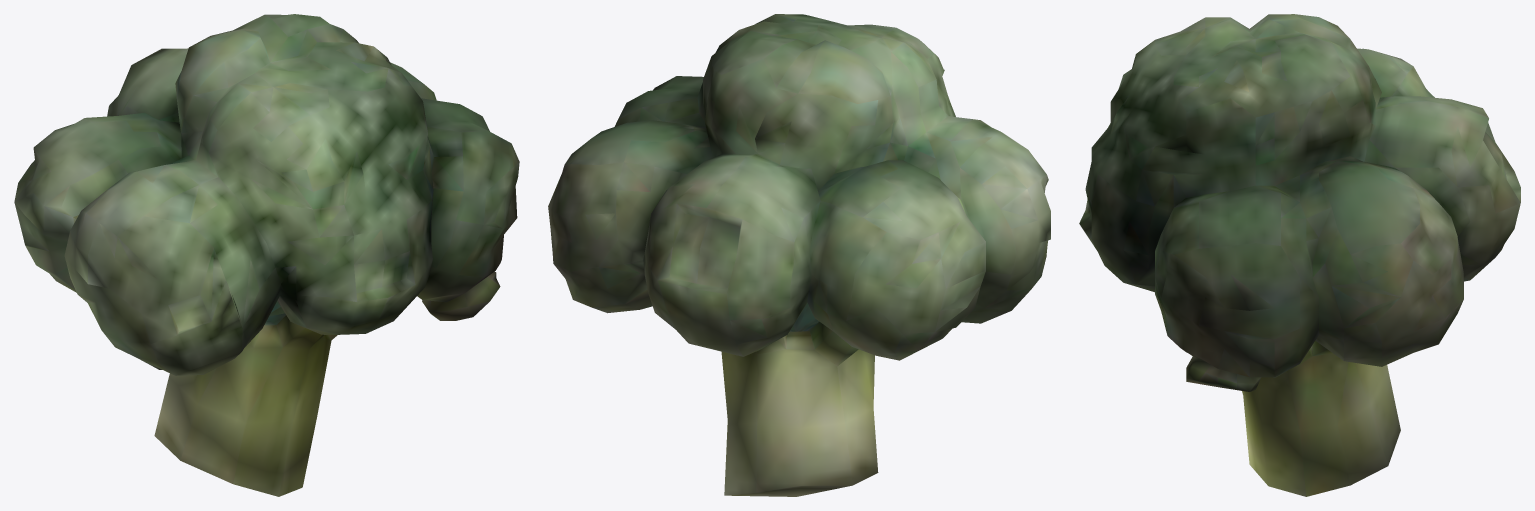
Rendered from broccoli.glb.
3 views of the same model, side by side, from view 1: azimuth 30°, elevation 25°; view 2: azimuth 150°, elevation 25°; view 3: azimuth 270°, elevation 25° (orthographic). The views are drawn at different scales.
Visible parts, largest first — view 1: Broccoli; view 2: Broccoli; view 3: Broccoli.
Boxes of the visible parts, <box> form: Broccoli: <box>14,14,519,496</box>; Broccoli: <box>548,14,1050,496</box>; Broccoli: <box>1079,14,1520,496</box>.
Bounding box in the file's own units: 1.74 × 1.74 × 1.56.
1 material, 1 textured.
